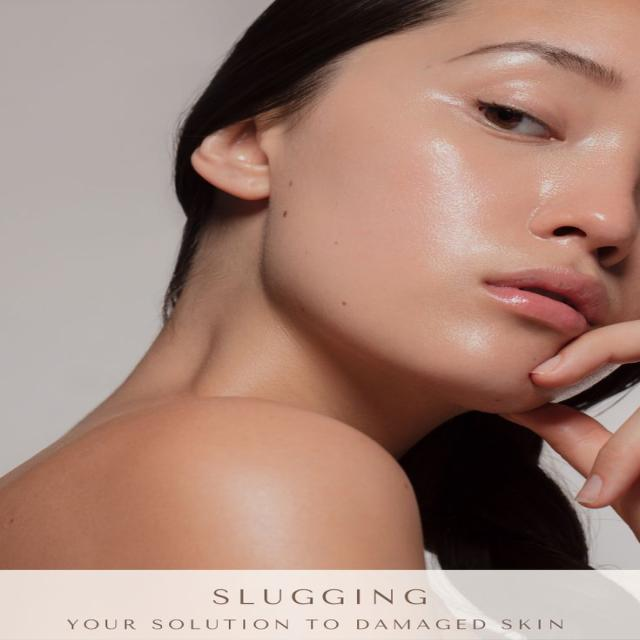Oily-Skin: (445, 292, 528, 373), (543, 160, 640, 228), (410, 120, 485, 202)
